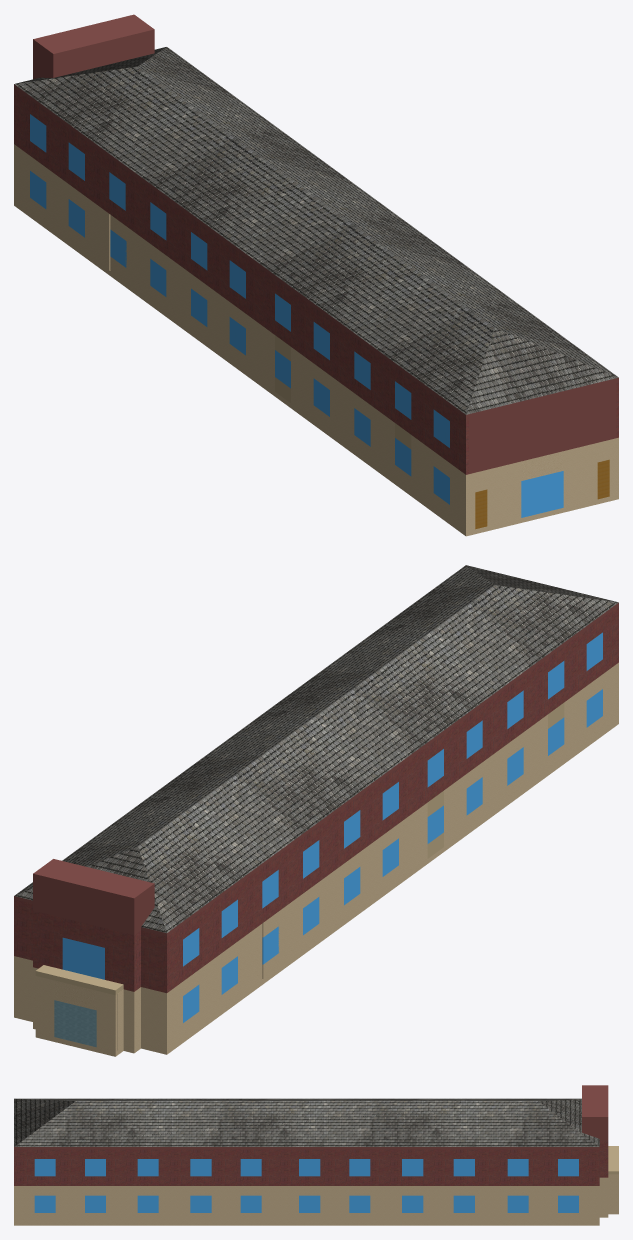
The model's file is Pump_Station_2.glb.
3 views of the same model, one above another, from view 1: azimuth 30°, elevation 25°; view 2: azimuth 150°, elevation 25°; view 3: azimuth 270°, elevation 25° (orthographic). The views are drawn at different scales.
Visible parts, largest first — view 1: Roof, Floor1; view 2: Floor1, Roof; view 3: Floor1, Roof.
Part boxes in pixels (x1,y1,x2,y2): Roof: (14, 14, 618, 418); Floor1: (14, 76, 618, 536); Floor1: (14, 606, 618, 1056); Roof: (14, 565, 618, 936); Floor1: (14, 1141, 618, 1225); Roof: (14, 1085, 608, 1149).
Size of the model in its own units: 13 by 12.6 by 68.75.
Materials: 8 (7 with a texture image).
